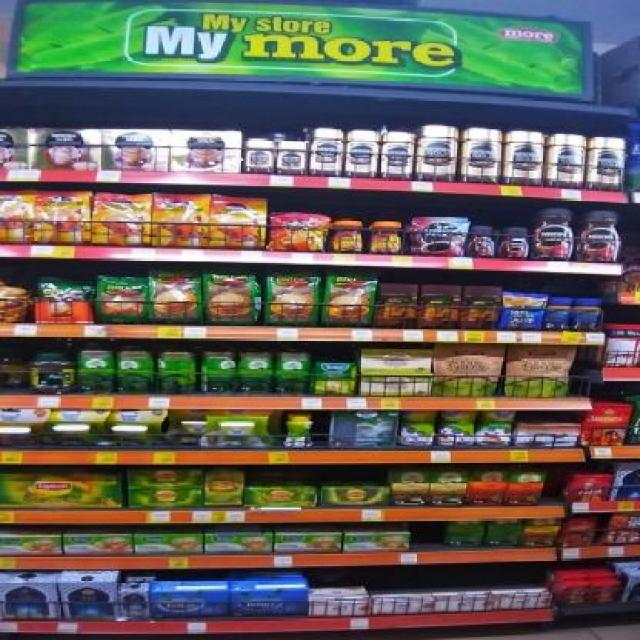Coffee: (210, 195, 264, 250), (94, 192, 148, 246), (36, 192, 89, 246), (154, 194, 206, 248), (579, 209, 621, 262), (532, 208, 574, 260), (419, 125, 456, 181), (464, 128, 501, 183), (412, 219, 466, 256), (273, 214, 324, 252), (507, 131, 542, 186), (589, 137, 626, 189), (549, 134, 583, 188), (309, 128, 342, 177), (347, 130, 378, 178), (382, 131, 412, 178), (369, 220, 402, 255), (331, 220, 363, 254), (499, 227, 528, 259), (277, 141, 305, 174), (246, 138, 272, 173), (469, 227, 494, 258)
